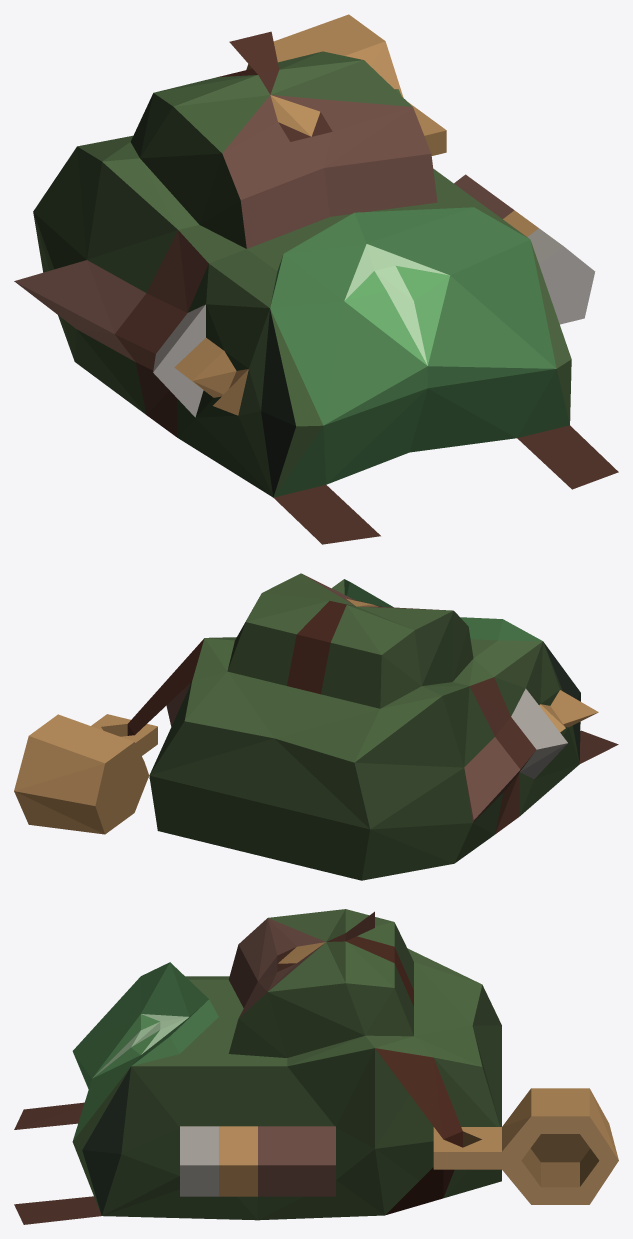
Rendered from forestry-kit.gltf.
3 views of the same model, one above another, from view 1: azimuth 30°, elevation 25°; view 2: azimuth 150°, elevation 25°; view 3: azimuth 270°, elevation 25° (orthographic). The views are drawn at different scales.
Size of the model in its own units: 42 by 28 by 62.
Materials: 1 (1 with a texture image).
